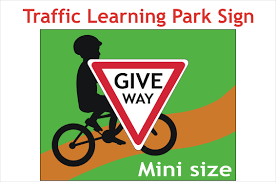giveway: (87, 57, 188, 151)
